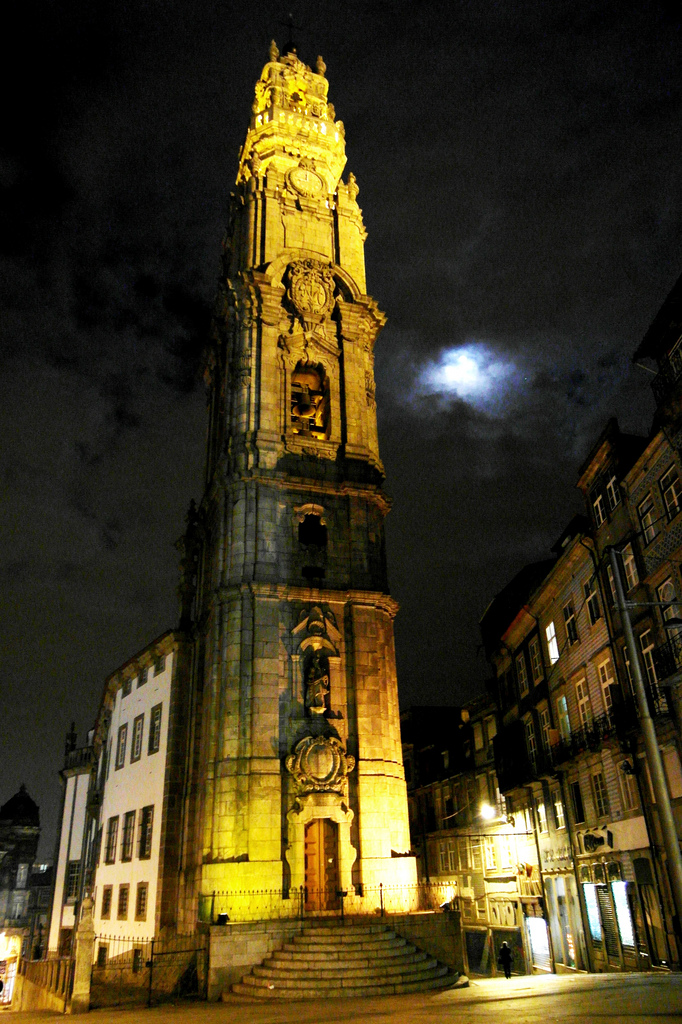clerigos: (176, 14, 423, 913)
